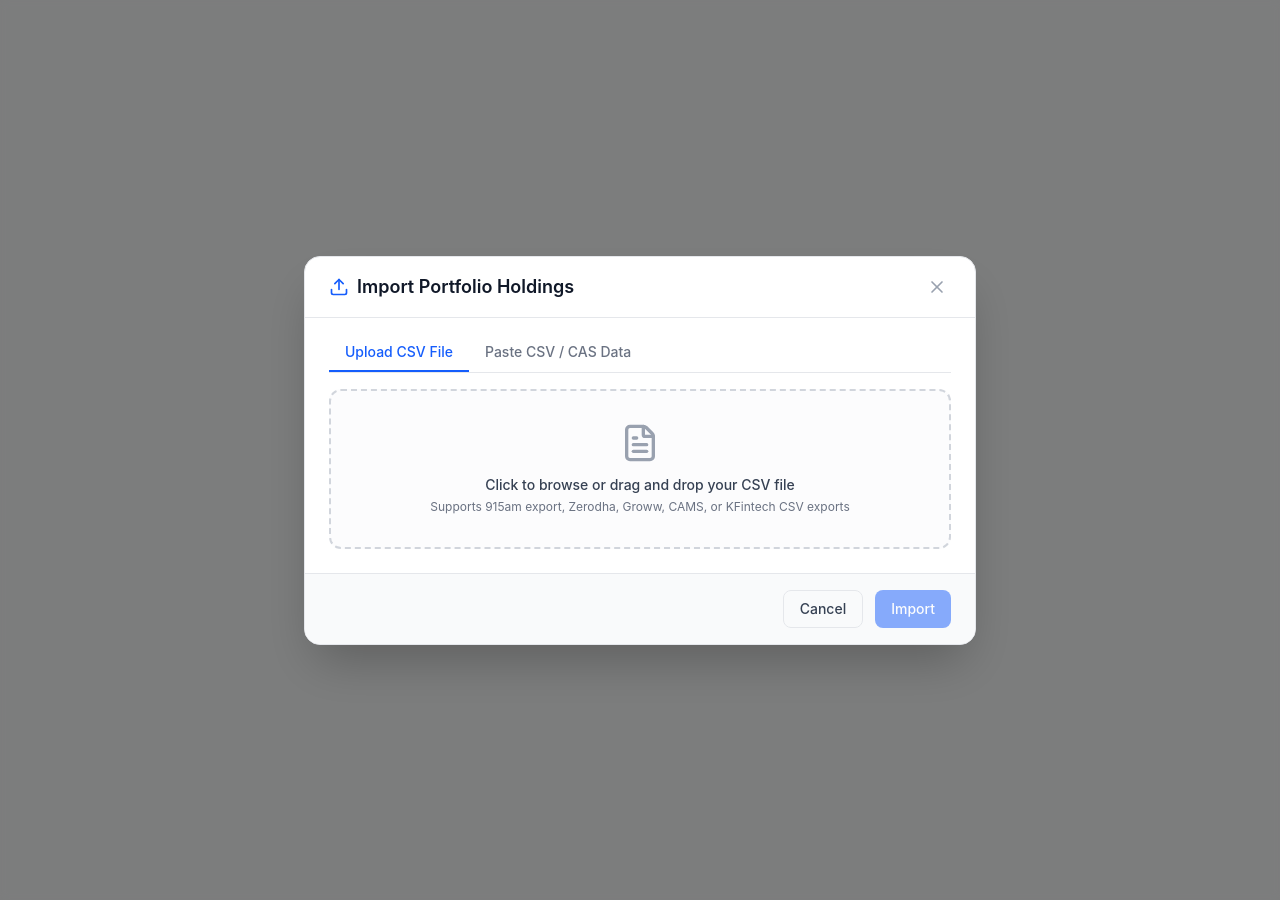
ImportModal component › allows pasting CSV data and importing holdings
Later steps or results of the test are not shown.
Check: the heading "Import Portfolio Holdings" is shown, box [357,272,574,300]
Switch to paste tab
Click the button "Paste CSV / CAS Data".
click(558, 356)  # box [469,342,647,372]
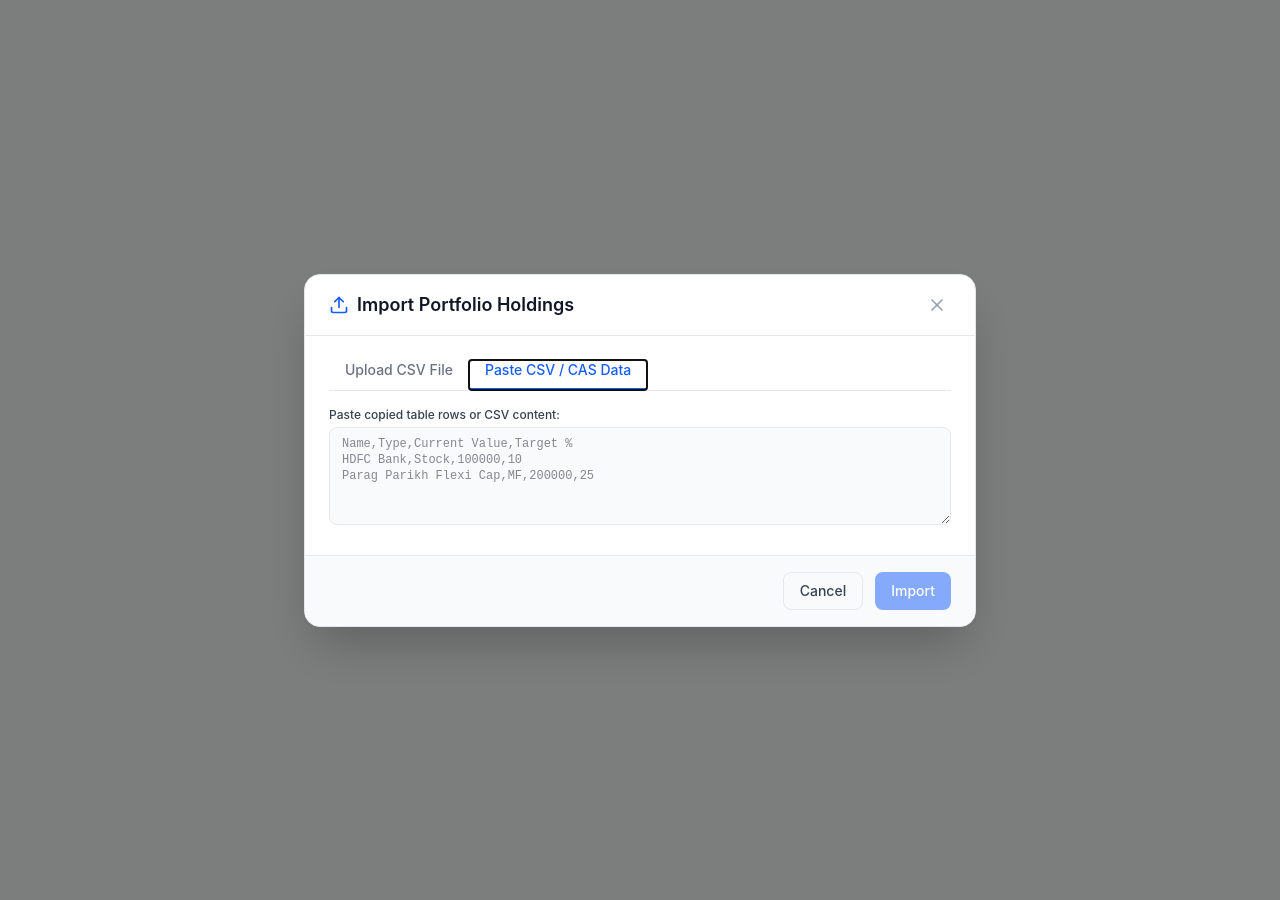
Type "Name,Type,Current Value,Target % HDFC Bank,Stock,150000,10 SBI Equity Hybrid,MF,250000,20" into the text box.
click(640, 476); type("Name,Type,Current Value,Target % HDFC Bank,Stock,150000,10 SBI Equity Hybrid,MF,250000,20")  # box [329,426,951,524]
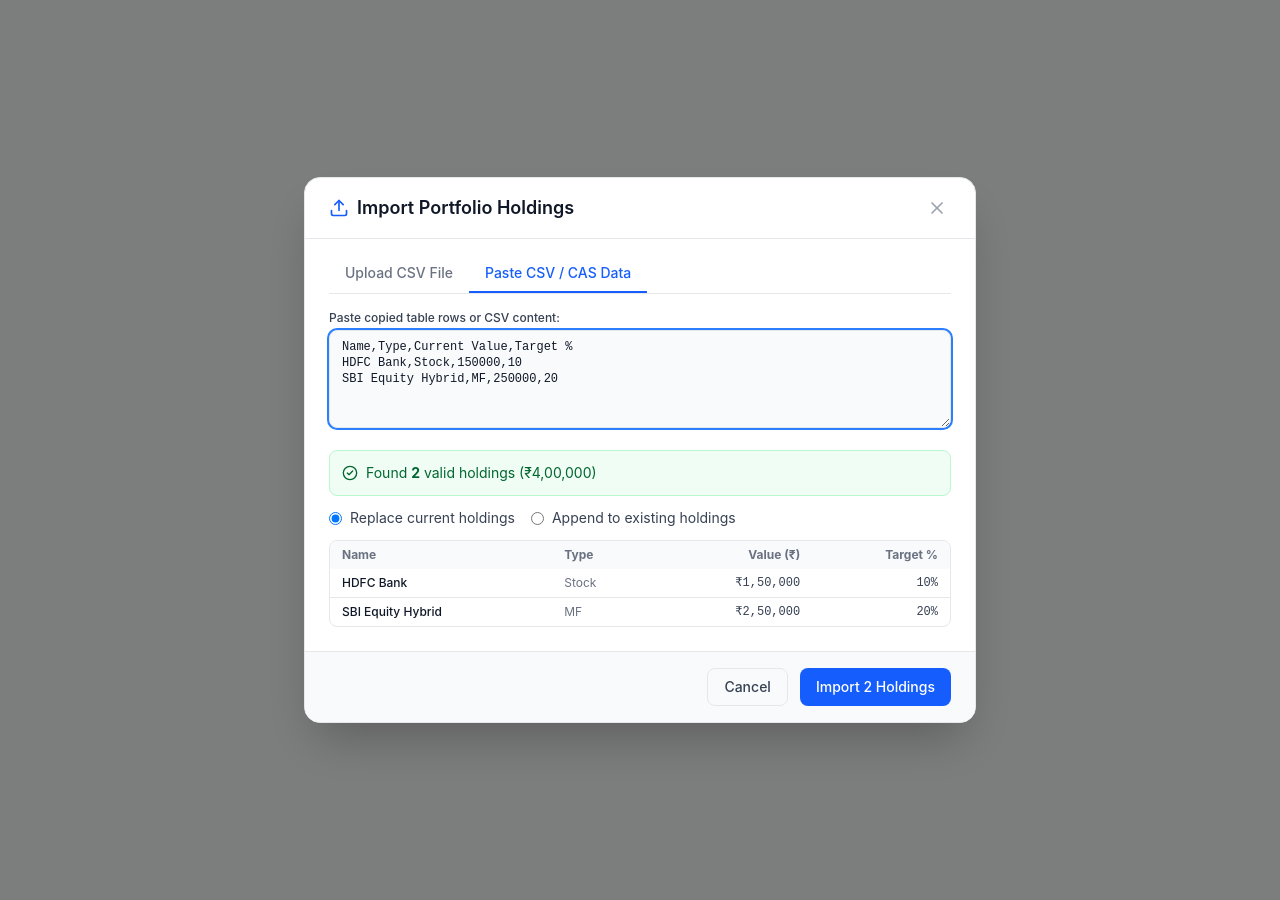
Check: the text "Found 2 valid holdings (₹4,00,000)" is shown, box [366,463,597,483]
Check: the text "HDFC Bank" is shown, box [330,569,552,598]
Check: the text "SBI Equity Hybrid" is shown, box [330,598,552,626]
